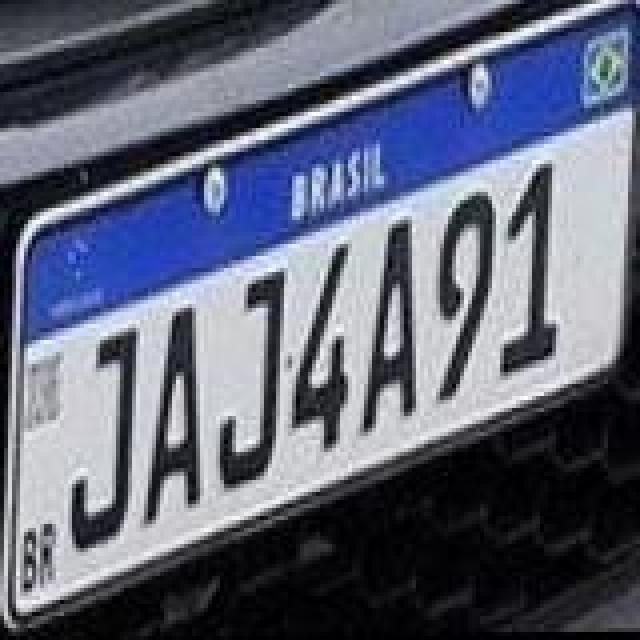1: (498, 166, 558, 382)
4: (290, 244, 350, 452)
9: (432, 192, 496, 404)
A: (140, 306, 204, 530), (364, 220, 420, 436)
J: (68, 324, 140, 552), (218, 270, 286, 494)
